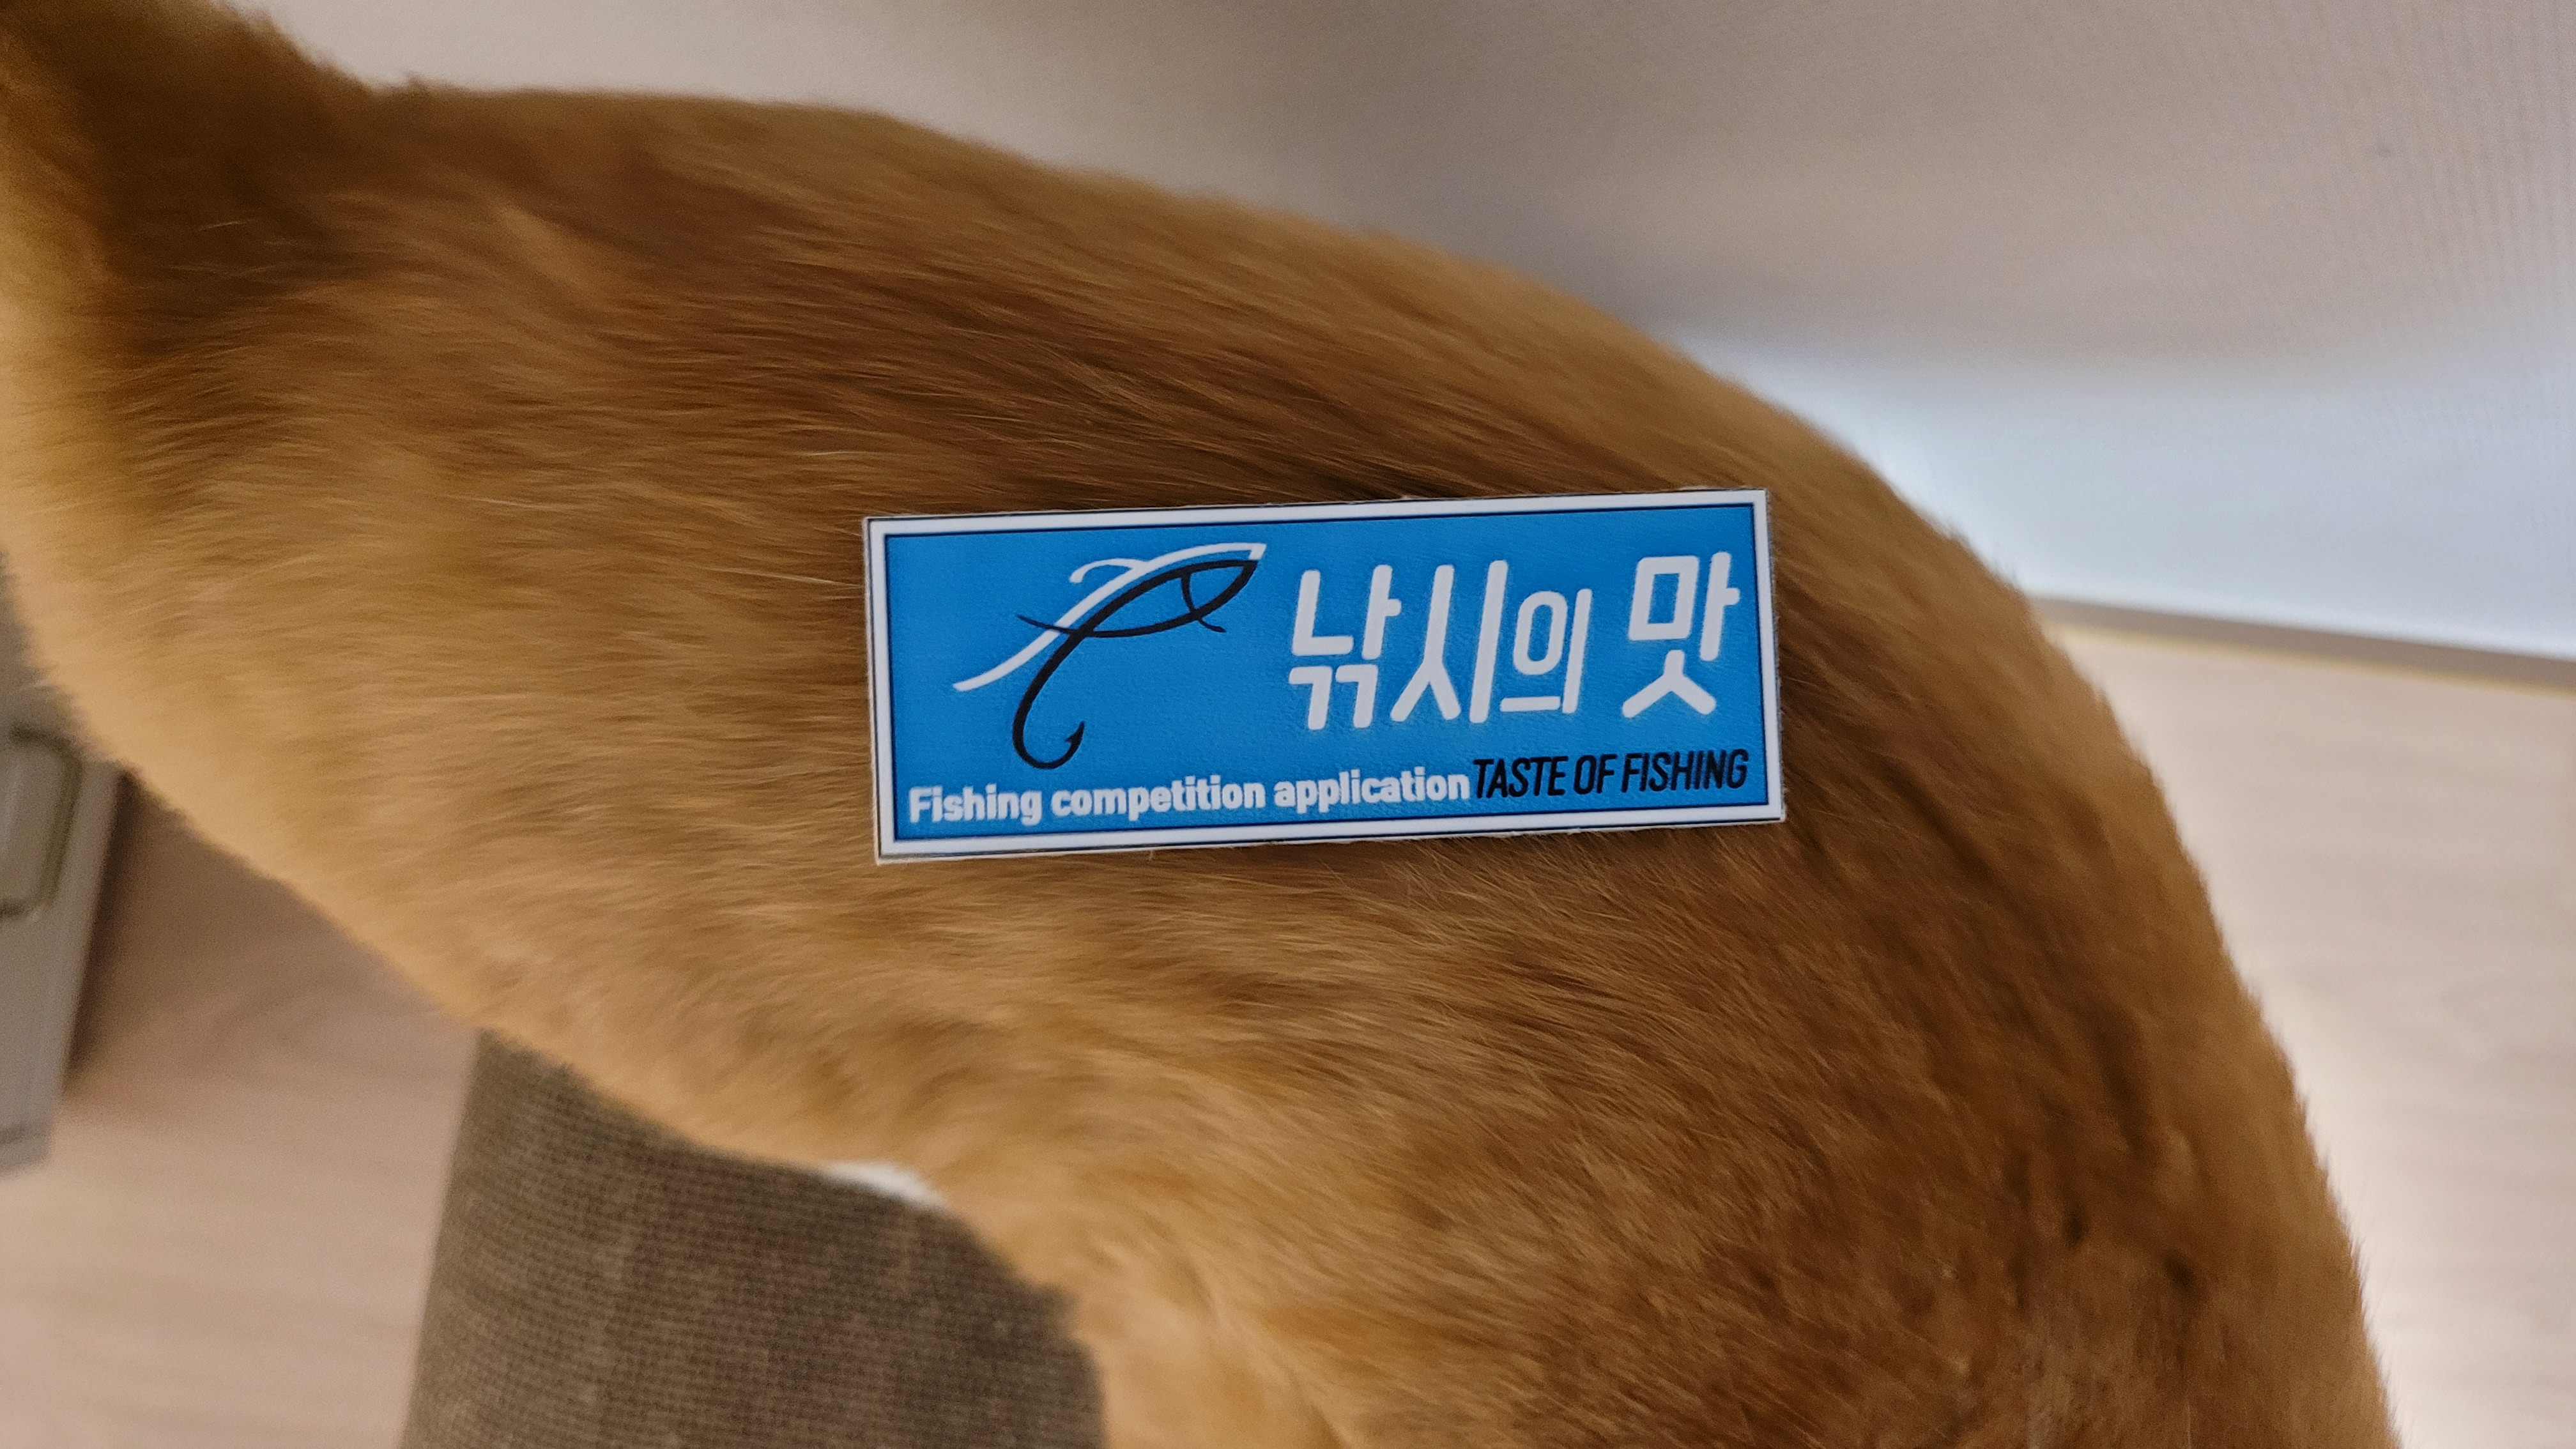tag: (863, 488, 1787, 847)
